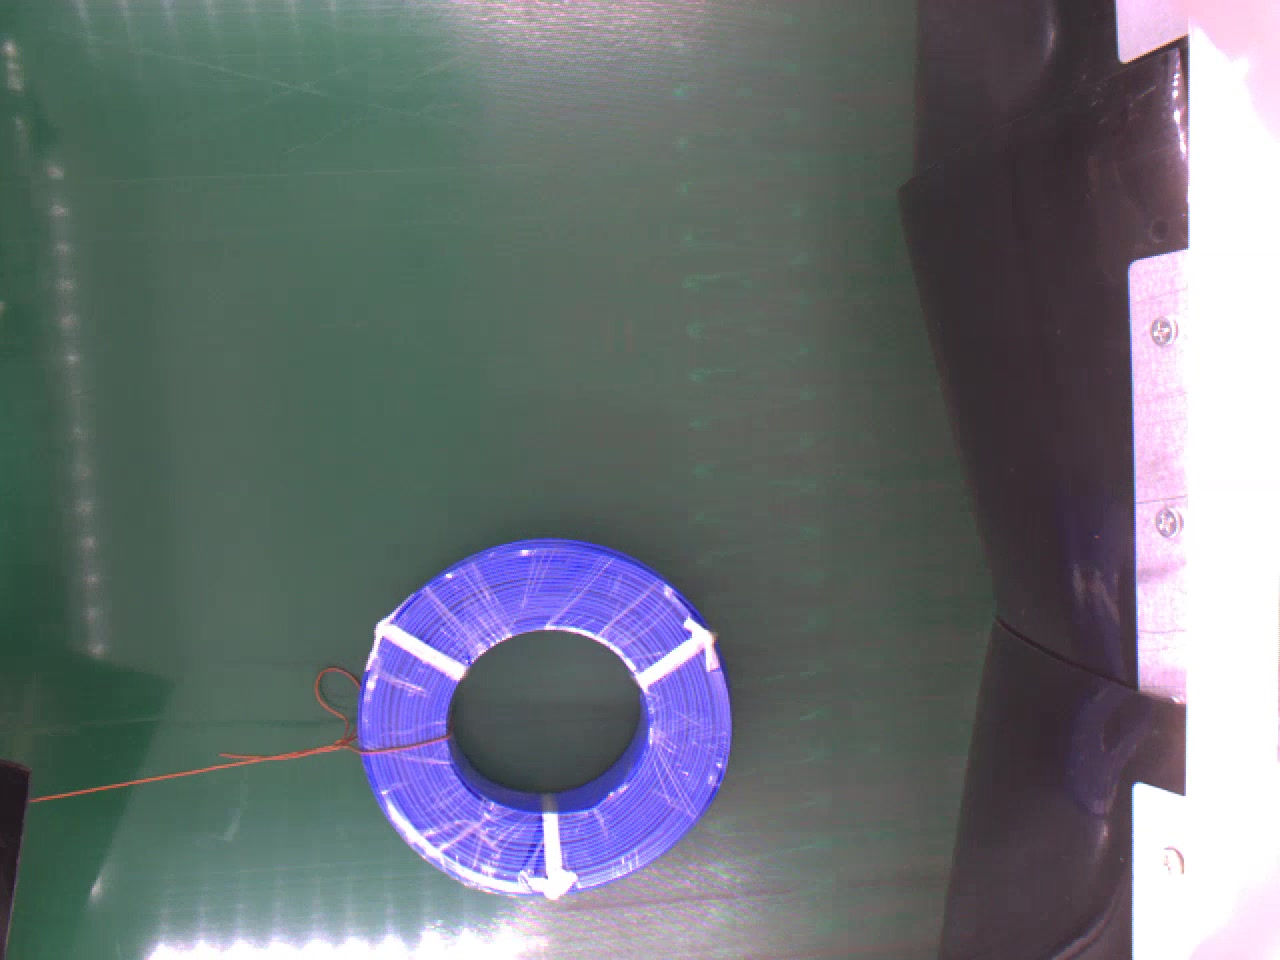blue: (355, 533, 734, 904)
